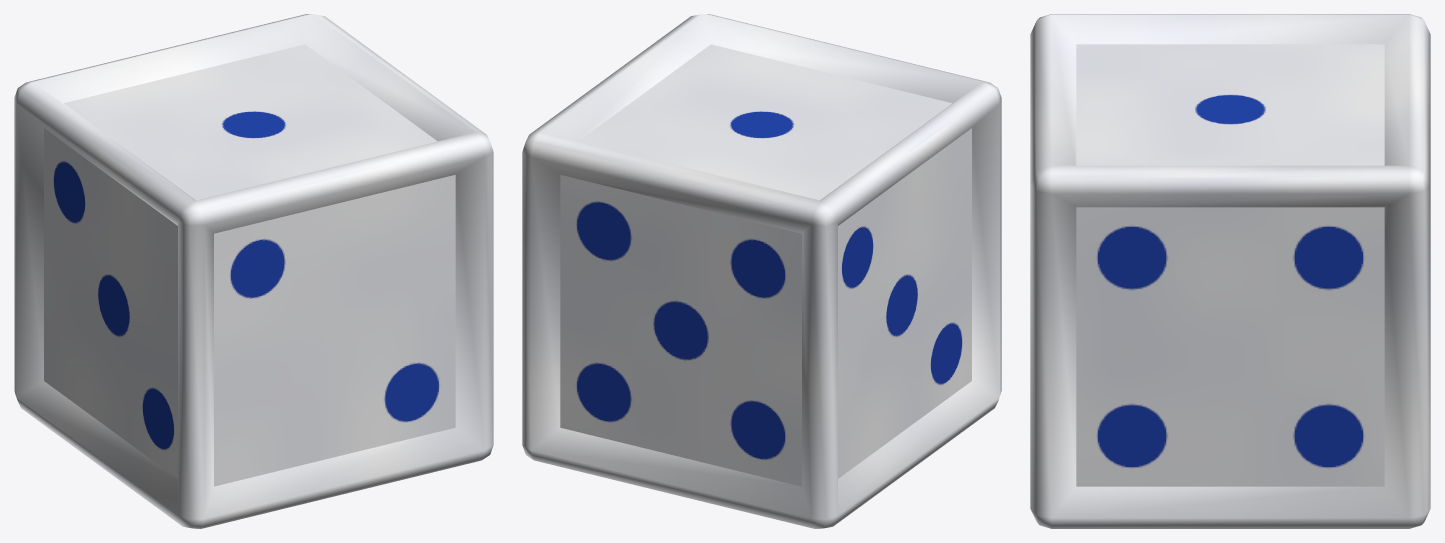
The model's file is Die_Even.fbx.
The picture shows the model from 3 angles, left to right: view 1: azimuth 30°, elevation 25°; view 2: azimuth 150°, elevation 25°; view 3: azimuth 270°, elevation 25°; orthographic projection. The views are drawn at different scales.
Parts seen in each view (by area): view 1: Die_Even; view 2: Die_Even; view 3: Die_Even.
Part boxes in pixels (x1,y1,x2,y2): Die_Even: [14, 14, 493, 528]; Die_Even: [522, 14, 1001, 528]; Die_Even: [1030, 14, 1430, 528].
Bounding box in the file's own units: 0.3 × 0.3 × 0.3.
Materials: 1 (1 with a texture image).
